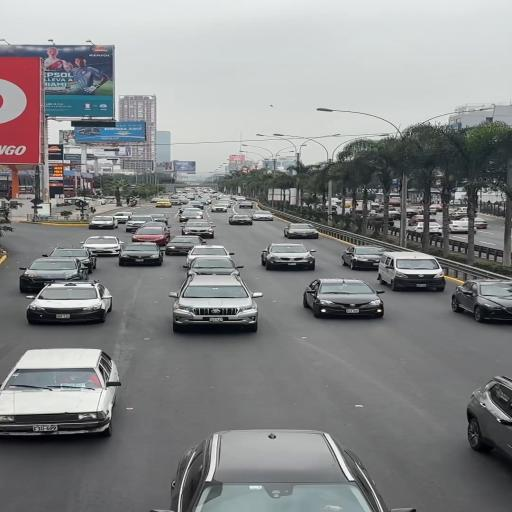auto: (150, 428, 411, 510), (1, 348, 122, 436), (167, 272, 260, 331), (465, 376, 510, 465), (23, 280, 114, 324), (301, 278, 385, 319), (378, 251, 448, 291), (17, 256, 93, 292), (451, 278, 510, 324), (260, 242, 316, 271), (44, 246, 99, 273), (182, 244, 235, 268), (341, 245, 390, 270), (118, 242, 168, 266), (78, 236, 124, 258), (130, 224, 172, 246), (163, 235, 207, 255), (179, 220, 216, 238), (282, 222, 320, 239), (406, 221, 444, 236), (446, 219, 486, 233), (124, 215, 156, 231), (87, 215, 118, 230), (227, 214, 254, 225), (251, 210, 274, 221), (154, 200, 172, 207)
